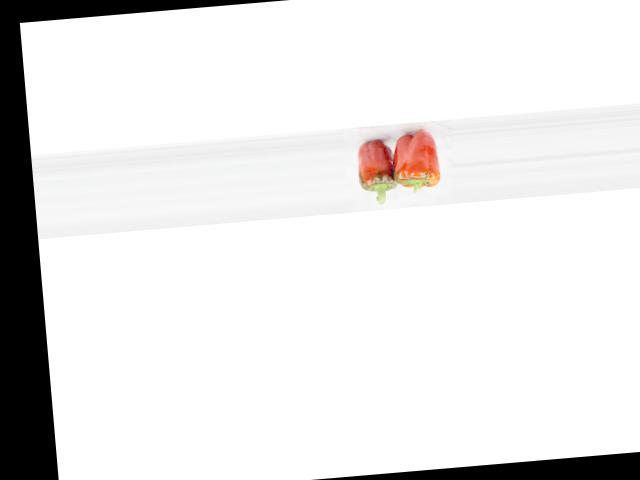bell_pepper: (392, 127, 449, 197)
